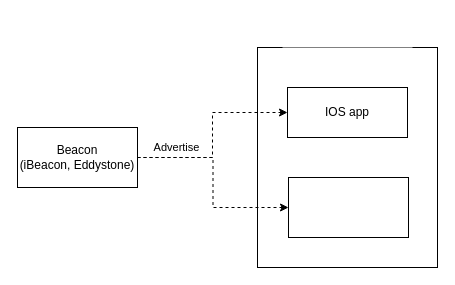
Image size: 455x285. Some labels were removed from this diagram. Each missing label, with the centre of its shape:
"Android app" belongs at point 348,207.
"Background Run??" belongs at point 347,32.
